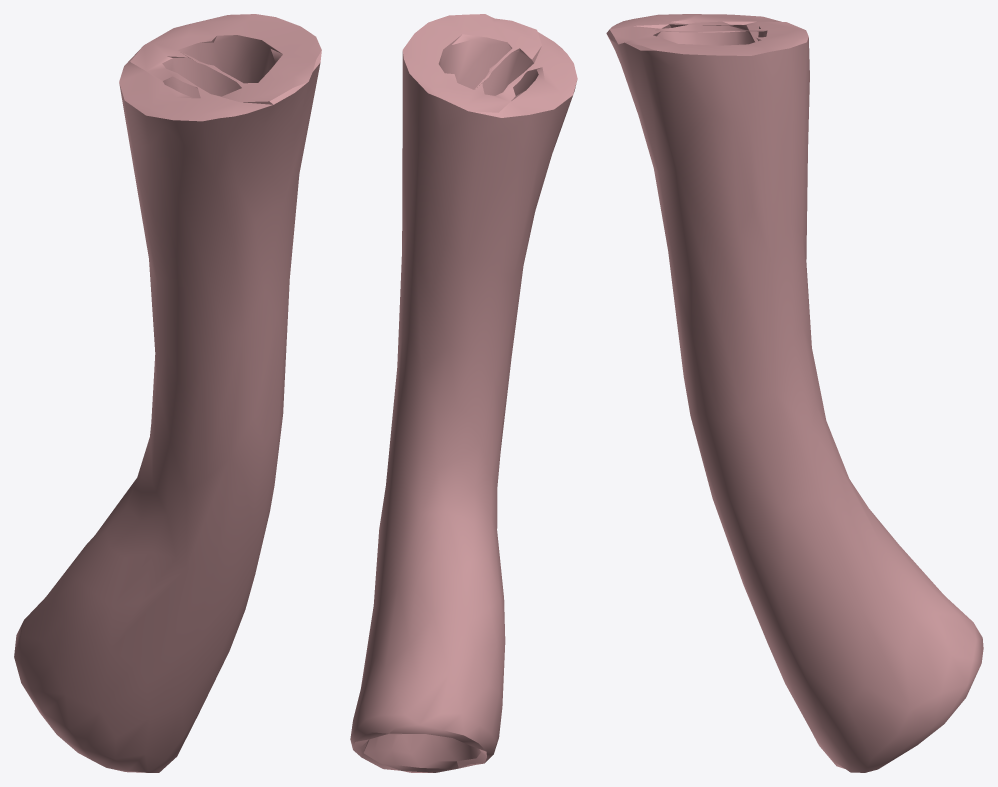
Rendered from fma59556_mm2206.glb.
The picture shows the model from 3 angles, left to right: view 1: azimuth 30°, elevation 25°; view 2: azimuth 150°, elevation 25°; view 3: azimuth 270°, elevation 25°; orthographic projection. The views are drawn at different scales.
Visible parts, largest first — view 1: FMA59556_MM2206; view 2: FMA59556_MM2206; view 3: FMA59556_MM2206.
Part boxes in pixels (bbox=[...]): FMA59556_MM2206: bbox=[14, 14, 321, 772]; FMA59556_MM2206: bbox=[350, 14, 577, 772]; FMA59556_MM2206: bbox=[606, 14, 983, 772].
Bounding box in the file's own units: 0.00332 × 0.0138 × 0.00628.
